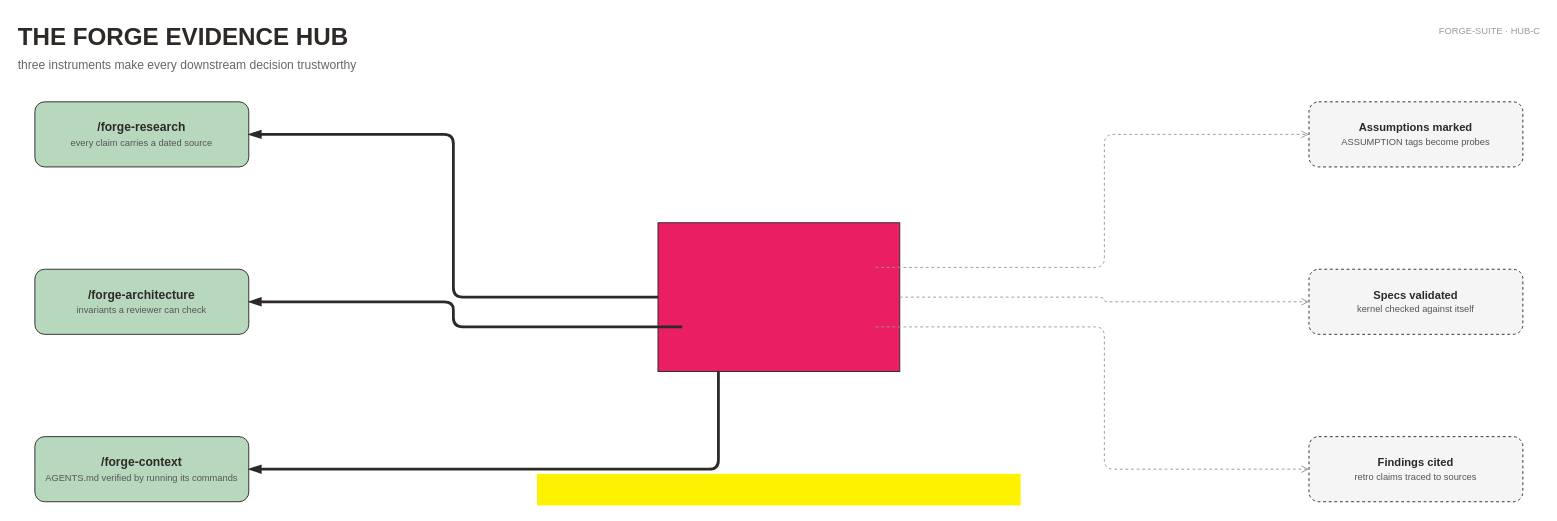
The diagram is 1557 pixels wide and 521 high, and some of its shapes have lost their labels. The box of each missing label's shape, as (x1, y1, x2, y2) in pixels:
DECISION-GRADE TRUTH no conclusion from training data alone: (657, 222, 900, 372)
If it cannot be checked, it is not on the chart.: (537, 473, 1020, 505)
